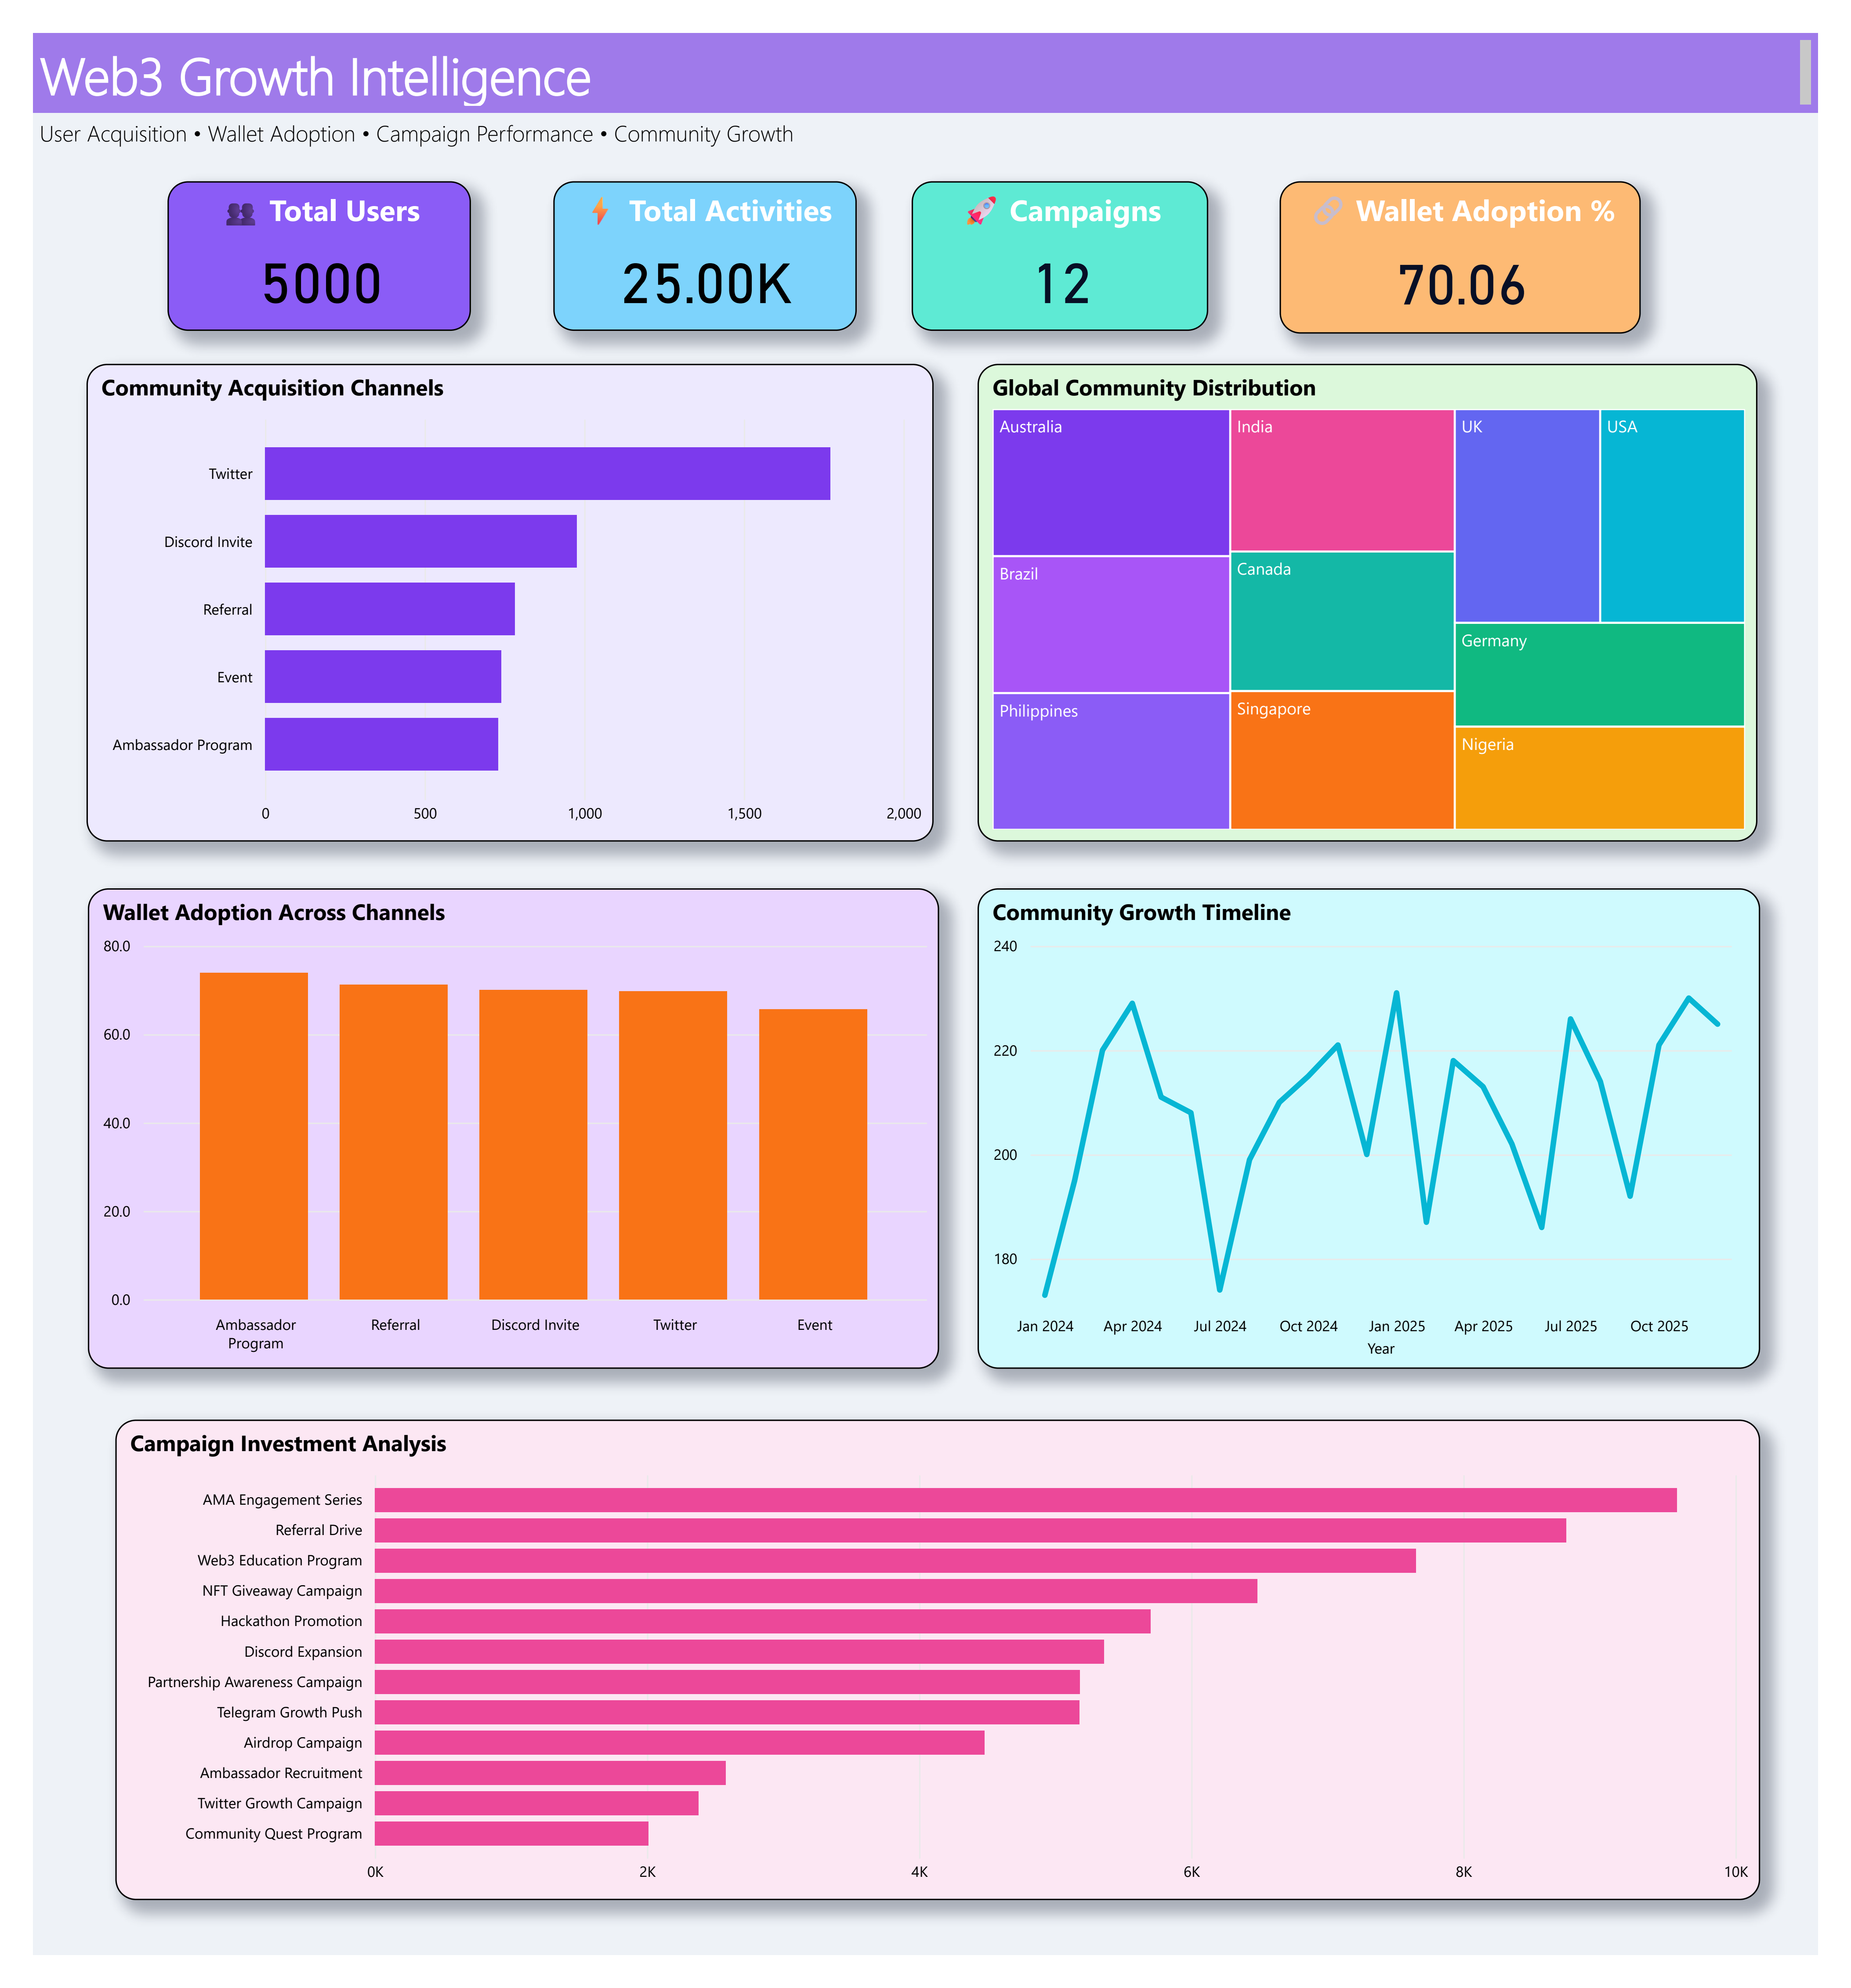

The dashboard page shown, as its layout file describes it:
{"tool":"powerbi","page":{"name":"Executive Overview","canvas":[1300,1400],"ordinal":0},"visuals":[{"type":"card","title":"👥 Total Users","fields":{"Values":["Count(users.user_id)"]},"box":[97.9,108.3,220.8,108.3],"z":0},{"type":"card","title":"🔗 Wallet Adoption %","fields":{"Values":["activities.Wallet Adoption Pct"]},"box":[908.3,108.3,262.5,110.4],"z":1000},{"type":"card","title":"🚀 Campaigns","fields":{"Values":["Count(campaigns.campaign_id)"]},"box":[639.6,108.3,216.7,108.3],"z":2000},{"type":"card","title":"⚡ Total Activities","fields":{"Values":["Count(activities.activity_id)"]},"box":[379.2,108.3,220.8,108.3],"z":3000},{"type":"clusteredBarChart","title":"Community Acquisition Channels","fields":{"Category":["users.source"],"Y":["CountNonNull(users.user_id)"]},"box":[39.3,240.8,616.3,348.1],"z":4000},{"type":"treemap","title":"Global Community Distribution","fields":{"Group":["users.country"],"Values":["CountNonNull(users.user_id)"]},"box":[687.8,240.8,568.6,348.1],"z":5000},{"type":"clusteredColumnChart","title":"Wallet Adoption Across Channels","fields":{"Category":["users.source"],"Y":["activities.Wallet Adoption By Source"]},"box":[39.6,622.9,620.8,350],"z":6000},{"type":"lineChart","title":"Community Growth Timeline","fields":{"Y":["CountNonNull(users.user_id)"],"Category":["users.join_date.Variation.Date Hierarchy.Year","users.join_date.Variation.Date Hierarchy.Month"]},"box":[687.5,622.9,570.8,350],"z":7000},{"type":"clusteredBarChart","title":"Campaign Investment Analysis","fields":{"Category":["campaigns.campaign_name"],"Y":["Sum(campaigns.spend_usd)"]},"box":[60.4,1010.4,1197.9,350],"z":8000},{"type":"textbox","box":[0,0,1300.2,58.1],"z":9000},{"type":"textbox","box":[0,56.9,1279.7,41.2],"z":10000}]}

Visuals, with their boxes in screenshot pixels (x1, y1, x2, y2), scaled from the page's 1300x1400 canvas onto the 1851x1988 screenshot:
"👥 Total Users" card: {"left": 139, "top": 154, "right": 454, "bottom": 308}
"🔗 Wallet Adoption %" card: {"left": 1293, "top": 154, "right": 1667, "bottom": 311}
"🚀 Campaigns" card: {"left": 911, "top": 154, "right": 1219, "bottom": 308}
"⚡ Total Activities" card: {"left": 540, "top": 154, "right": 854, "bottom": 308}
"Community Acquisition Channels" clusteredBarChart: {"left": 56, "top": 342, "right": 934, "bottom": 836}
"Global Community Distribution" treemap: {"left": 979, "top": 342, "right": 1789, "bottom": 836}
"Wallet Adoption Across Channels" clusteredColumnChart: {"left": 56, "top": 884, "right": 940, "bottom": 1382}
"Community Growth Timeline" lineChart: {"left": 979, "top": 884, "right": 1792, "bottom": 1382}
"Campaign Investment Analysis" clusteredBarChart: {"left": 86, "top": 1435, "right": 1792, "bottom": 1932}
textbox: {"left": 0, "top": 0, "right": 1851, "bottom": 83}
textbox: {"left": 0, "top": 81, "right": 1822, "bottom": 139}
